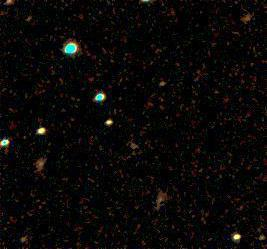star: (11, 120, 41, 150)
